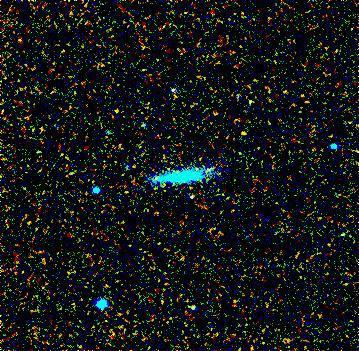star: (227, 118, 257, 148)
